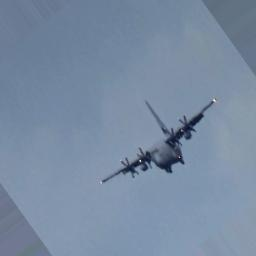Airplane: (98, 96, 218, 188)
